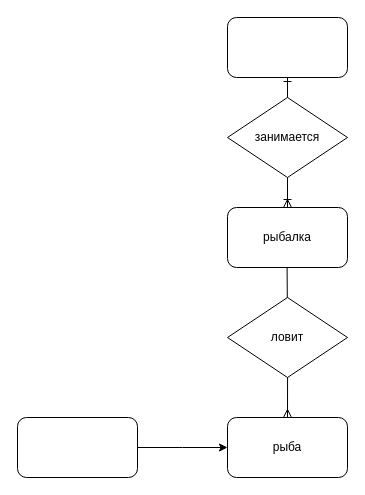
Image size: 365x495. Some labels were removed from this diagram. Each missing label, with the centre of its shape:
"клиент" goes at point (77, 447).
"рыбак" goes at point (287, 47).
